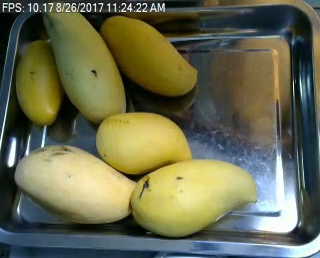Mango: (41, 0, 126, 125), (132, 158, 256, 237), (14, 145, 140, 222), (98, 14, 199, 95), (95, 112, 195, 174), (15, 39, 64, 124)
